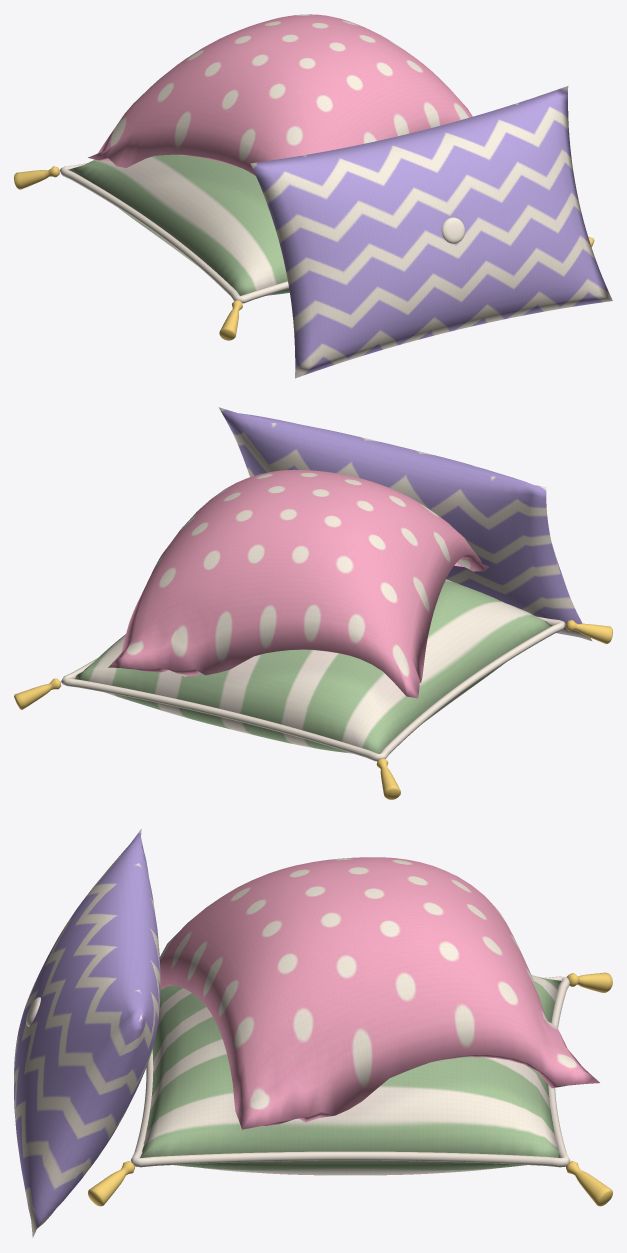
File: cushion.glb
3 renders of one model, top to bottom at view 1: azimuth 30°, elevation 25°; view 2: azimuth 150°, elevation 25°; view 3: azimuth 270°, elevation 25°, orthographic. The views are drawn at different scales.
Visible parts, largest first — view 1: cushion_body; view 2: cushion_body; view 3: cushion_body.
Boxes of the visible parts, <box> form: cushion_body: <box>14,14,612,378</box>; cushion_body: <box>14,407,612,799</box>; cushion_body: <box>14,829,612,1237</box>.
Bounding box in the file's own units: 0.5874 × 0.3172 × 0.6711.
Materials: 1 (1 with a texture image).
